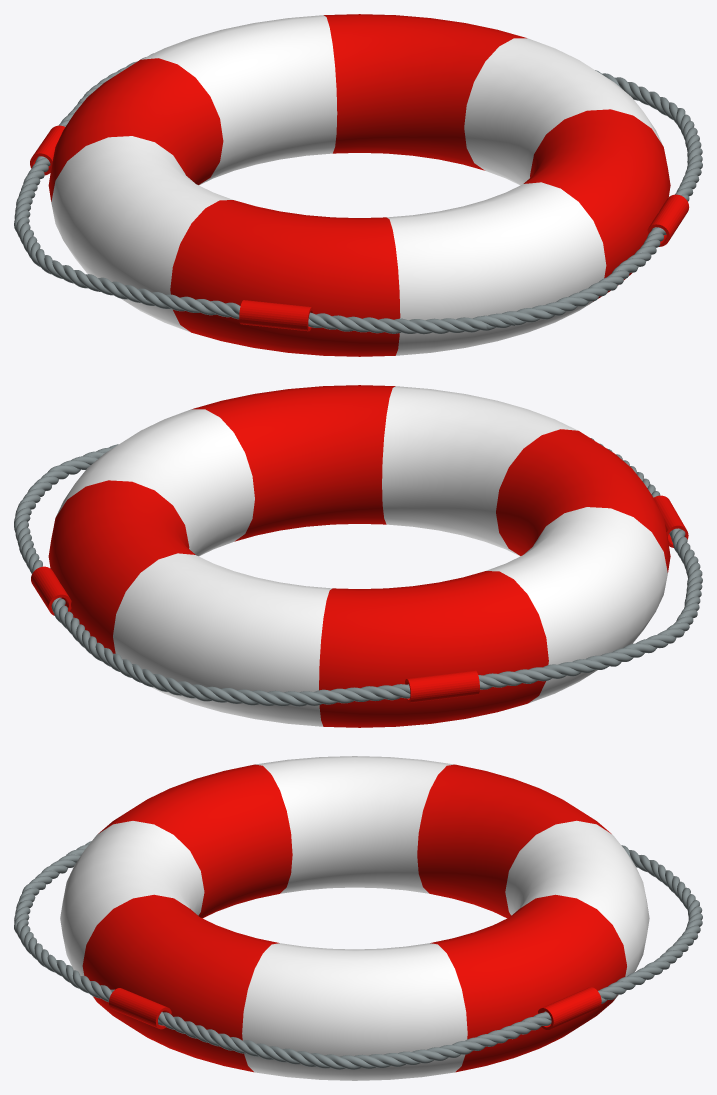
Rendered from LifeBuoy.fbx.
3 views of the same model, one above another, from view 1: azimuth 30°, elevation 25°; view 2: azimuth 150°, elevation 25°; view 3: azimuth 270°, elevation 25° (orthographic). The views are drawn at different scales.
Parts seen in each view (by area): view 1: Rettungsring; view 2: Rettungsring; view 3: Rettungsring.
Part boxes in pixels (left/top/right/bottom): Rettungsring: left=14, top=14, right=702, bottom=356; Rettungsring: left=14, top=385, right=702, bottom=727; Rettungsring: left=14, top=756, right=702, bottom=1080.
Bounding box in the file's own units: 477 × 88.63 × 470.
